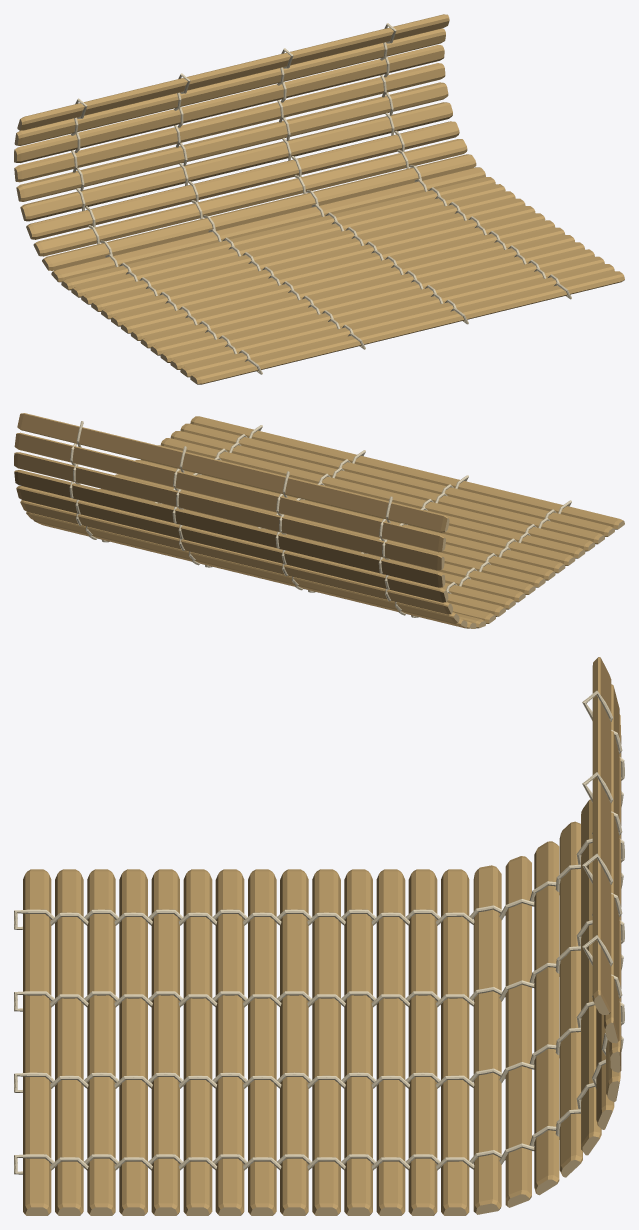
3 renders of one model, top to bottom at view 1: azimuth 30°, elevation 25°; view 2: azimuth 150°, elevation 25°; view 3: azimuth 270°, elevation 25°, orthographic. The views are drawn at different scales.
Visible parts, largest first — view 1: WholeBevelEndedTransverseBambooSlat_18, WholeBevelEndedTransverseBambooSlat_19, WholeBevelEndedTransverseBambooSlat_17, WholeBevelEndedTransverseBambooSlat_20, WholeBevelEndedTransverseBambooSlat_16, WholeBevelEndedTransverseBambooSlat_21, WholeBevelEndedTransverseBambooSlat_15, WholeBevelEndedTransverseBambooSlat_22, WholeBevelEndedTransverseBambooSlat_23, WholeBevelEndedTransverseBambooSlat_00, WholeBevelEndedTransverseBambooSlat_14, WholeBevelEndedTransverseBambooSlat_13 (+16 smaller); view 2: WholeBevelEndedTransverseBambooSlat_23, WholeBevelEndedTransverseBambooSlat_22, WholeBevelEndedTransverseBambooSlat_21, WholeBevelEndedTransverseBambooSlat_20, WholeBevelEndedTransverseBambooSlat_19, WholeBevelEndedTransverseBambooSlat_18, WholeBevelEndedTransverseBambooSlat_01, WholeBevelEndedTransverseBambooSlat_00, WholeBevelEndedTransverseBambooSlat_02, WholeBevelEndedTransverseBambooSlat_03, WholeBevelEndedTransverseBambooSlat_17, WholeBevelEndedTransverseBambooSlat_06 (+14 smaller); view 3: WholeBevelEndedTransverseBambooSlat_05, WholeBevelEndedTransverseBambooSlat_11, WholeBevelEndedTransverseBambooSlat_06, WholeBevelEndedTransverseBambooSlat_12, WholeBevelEndedTransverseBambooSlat_00, WholeBevelEndedTransverseBambooSlat_09, WholeBevelEndedTransverseBambooSlat_13, WholeBevelEndedTransverseBambooSlat_07, WholeBevelEndedTransverseBambooSlat_03, WholeBevelEndedTransverseBambooSlat_01, WholeBevelEndedTransverseBambooSlat_02, WholeBevelEndedTransverseBambooSlat_08 (+15 smaller).
Boxes of the visible parts, <box> form: WholeBevelEndedTransverseBambooSlat_18: <box>20,102,452,221</box>; WholeBevelEndedTransverseBambooSlat_19: <box>16,82,448,201</box>; WholeBevelEndedTransverseBambooSlat_17: <box>26,121,459,239</box>; WholeBevelEndedTransverseBambooSlat_20: <box>14,63,445,182</box>; WholeBevelEndedTransverseBambooSlat_16: <box>33,139,467,256</box>; WholeBevelEndedTransverseBambooSlat_21: <box>14,44,444,162</box>; WholeBevelEndedTransverseBambooSlat_15: <box>42,154,476,270</box>; WholeBevelEndedTransverseBambooSlat_22: <box>14,28,445,145</box>; WholeBevelEndedTransverseBambooSlat_23: <box>17,14,449,130</box>; WholeBevelEndedTransverseBambooSlat_00: <box>190,271,624,384</box>; WholeBevelEndedTransverseBambooSlat_14: <box>51,167,485,282</box>; WholeBevelEndedTransverseBambooSlat_13: <box>61,177,495,290</box>; WholeBevelEndedTransverseBambooSlat_23: <box>17,413,449,532</box>; WholeBevelEndedTransverseBambooSlat_22: <box>14,432,445,552</box>; WholeBevelEndedTransverseBambooSlat_21: <box>14,452,444,570</box>; WholeBevelEndedTransverseBambooSlat_20: <box>14,470,445,587</box>; WholeBevelEndedTransverseBambooSlat_19: <box>16,486,448,602</box>; WholeBevelEndedTransverseBambooSlat_18: <box>20,500,452,614</box>; WholeBevelEndedTransverseBambooSlat_01: <box>180,423,614,536</box>; WholeBevelEndedTransverseBambooSlat_00: <box>190,416,624,529</box>; WholeBevelEndedTransverseBambooSlat_02: <box>170,431,604,544</box>; WholeBevelEndedTransverseBambooSlat_03: <box>160,438,595,551</box>; WholeBevelEndedTransverseBambooSlat_17: <box>26,512,459,622</box>; WholeBevelEndedTransverseBambooSlat_06: <box>135,460,565,573</box>; WholeBevelEndedTransverseBambooSlat_05: <box>183,869,212,1215</box>; WholeBevelEndedTransverseBambooSlat_11: <box>376,869,405,1215</box>; WholeBevelEndedTransverseBambooSlat_06: <box>215,869,244,1215</box>; WholeBevelEndedTransverseBambooSlat_12: <box>408,869,437,1215</box>; WholeBevelEndedTransverseBambooSlat_00: <box>23,869,51,1215</box>; WholeBevelEndedTransverseBambooSlat_09: <box>312,869,340,1215</box>; WholeBevelEndedTransverseBambooSlat_13: <box>441,869,469,1215</box>; WholeBevelEndedTransverseBambooSlat_07: <box>248,869,276,1215</box>; WholeBevelEndedTransverseBambooSlat_03: <box>119,869,147,1215</box>; WholeBevelEndedTransverseBambooSlat_01: <box>55,869,83,1215</box>; WholeBevelEndedTransverseBambooSlat_02: <box>87,869,115,1215</box>; WholeBevelEndedTransverseBambooSlat_08: <box>280,869,308,1215</box>.
Bounding box in the file's own units: 0.224 × 0.0729 × 0.171.
